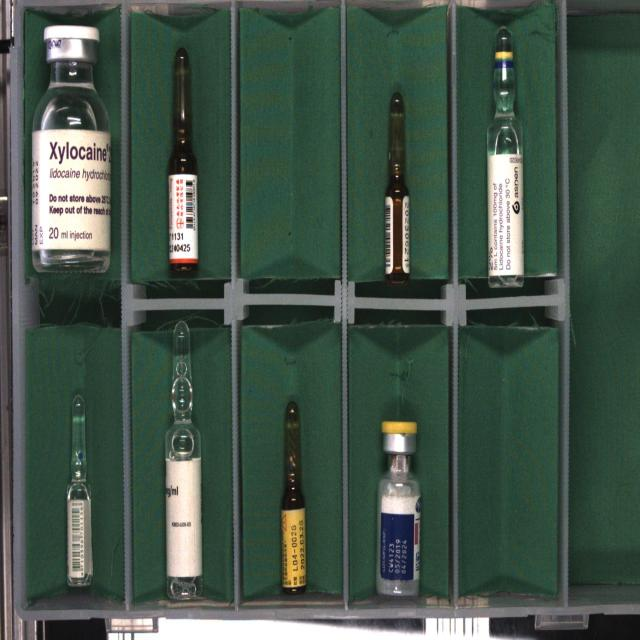Vials: (32, 26, 110, 271), (376, 420, 421, 596)
